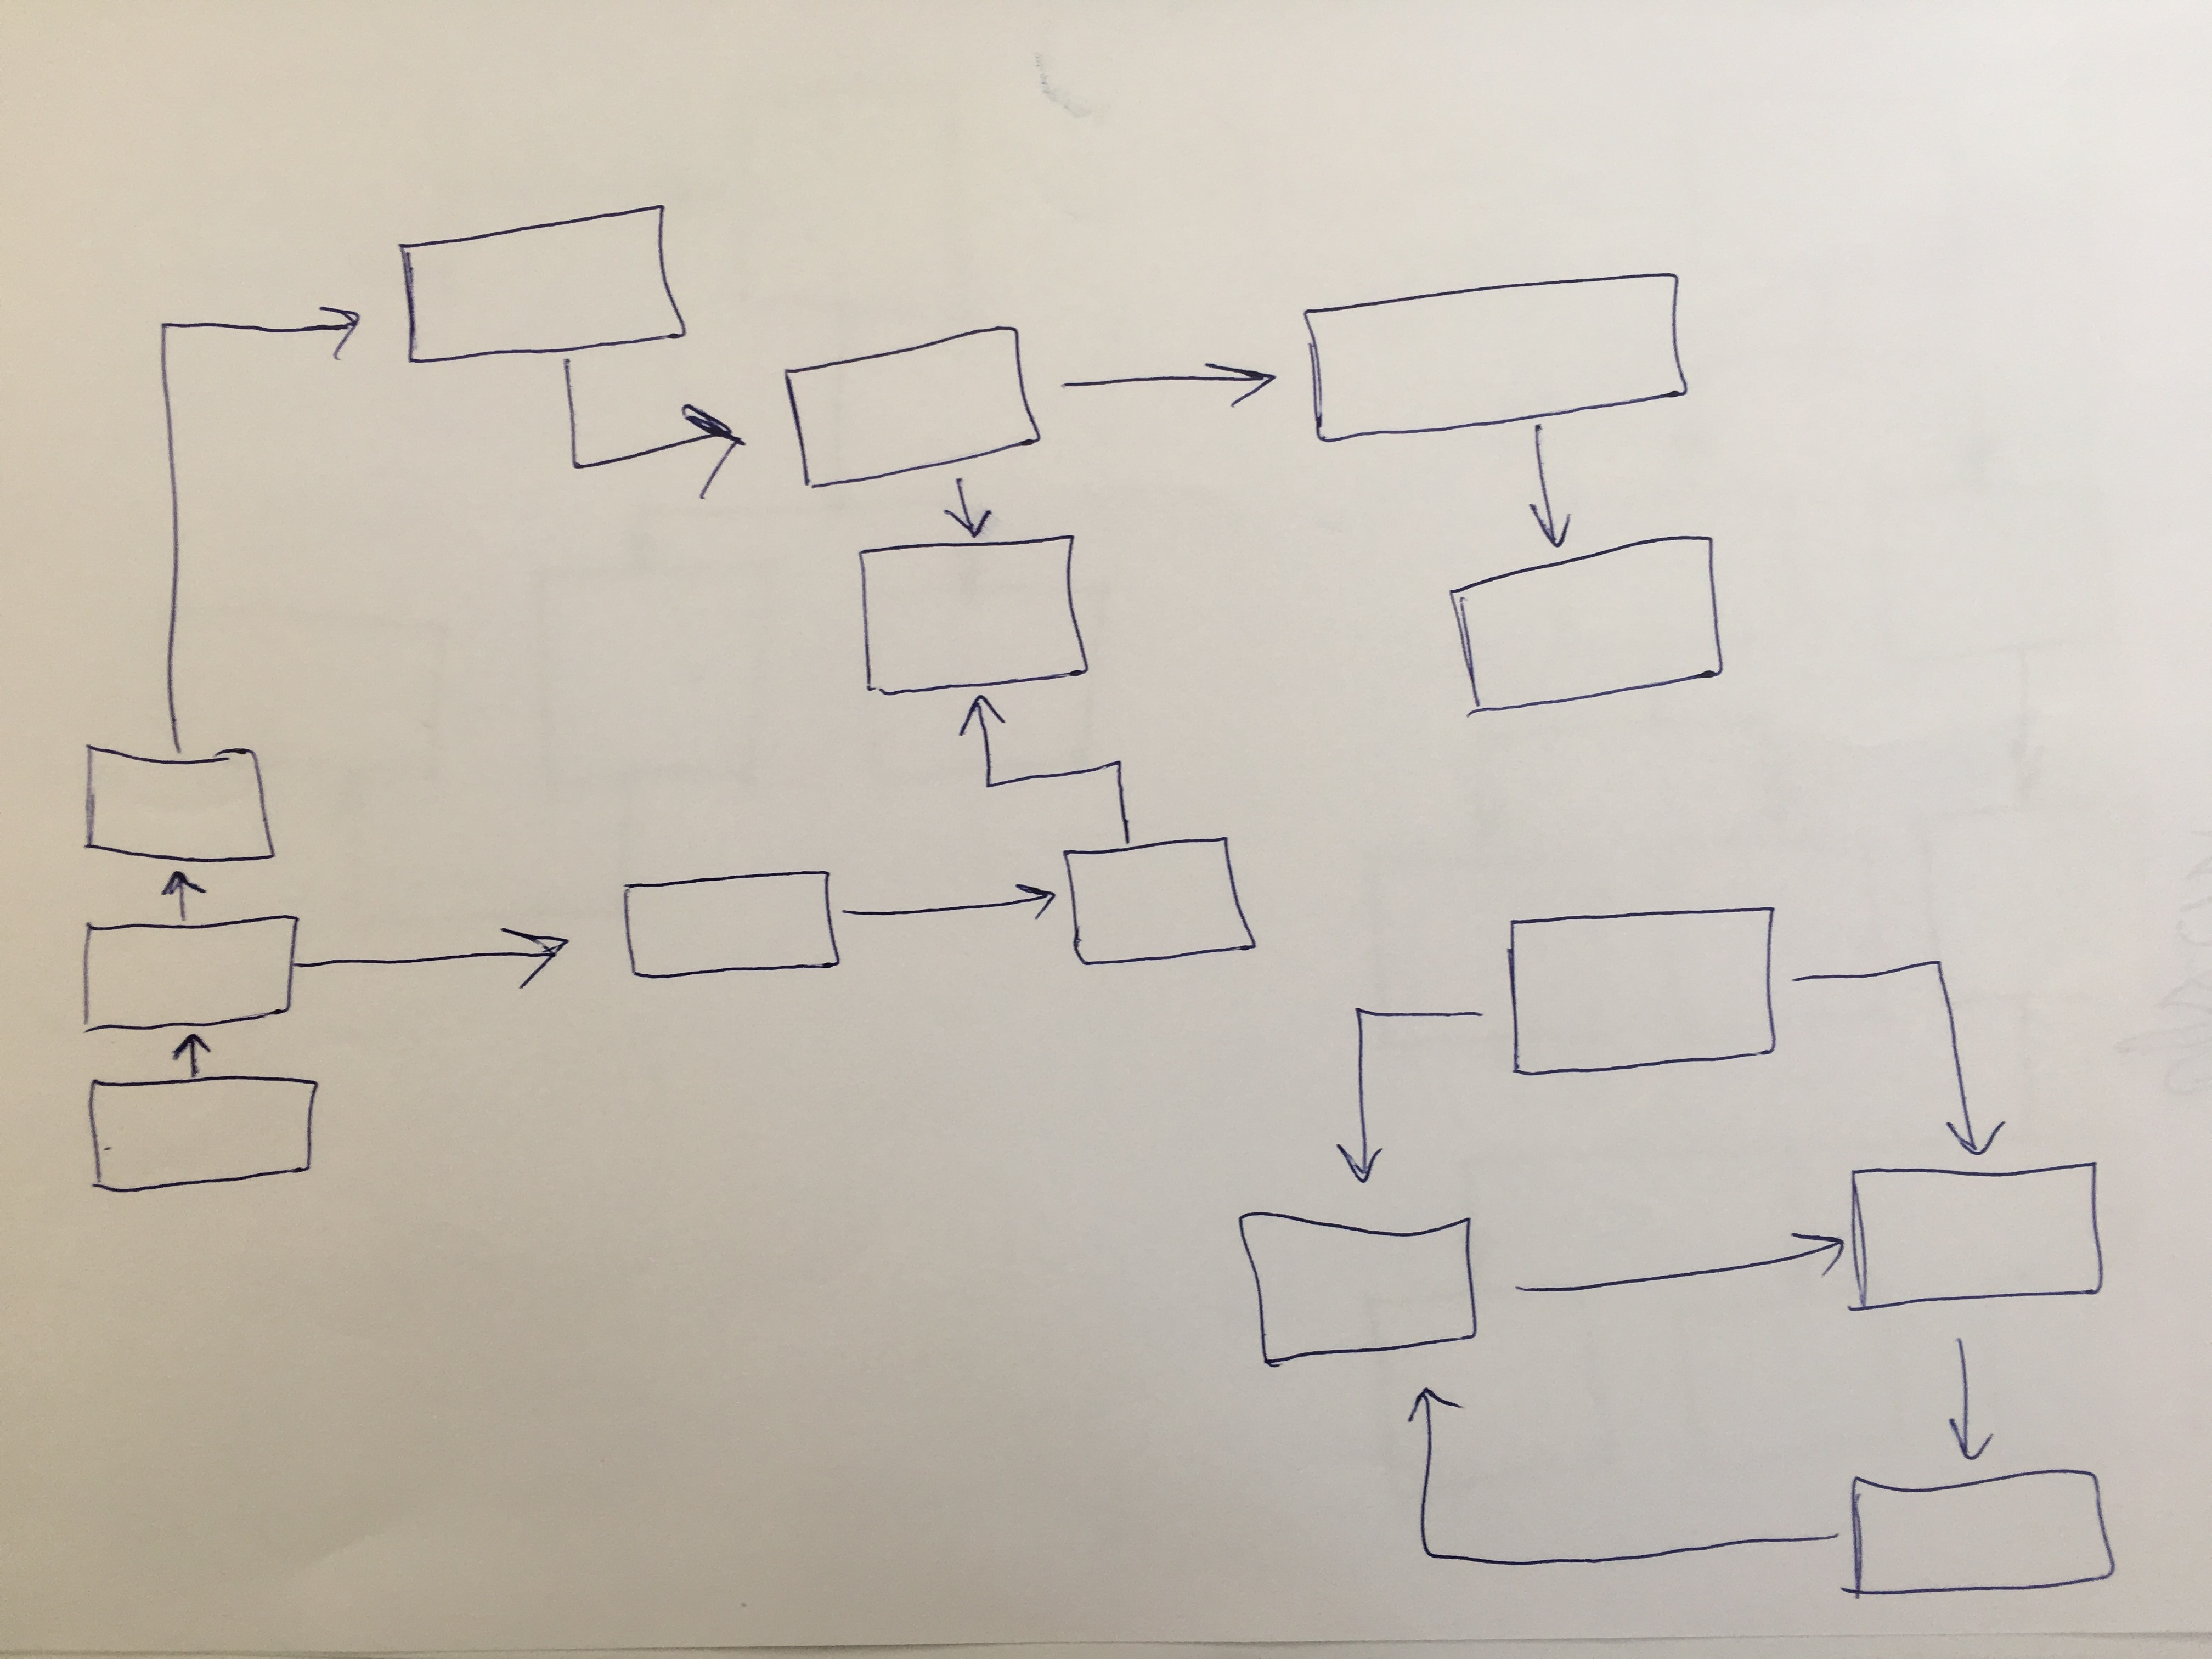arrow: (610, 403, 761, 507), (460, 918, 580, 993), (1738, 1218, 1848, 1288), (1165, 352, 1282, 415), (1395, 1375, 1461, 1466), (1510, 477, 1580, 558), (1937, 1096, 2015, 1164), (287, 305, 373, 361), (1933, 1398, 1996, 1473), (949, 692, 1012, 762), (1332, 1115, 1390, 1190), (932, 476, 998, 540), (989, 877, 1061, 927), (155, 866, 206, 924), (167, 1028, 218, 1073)
